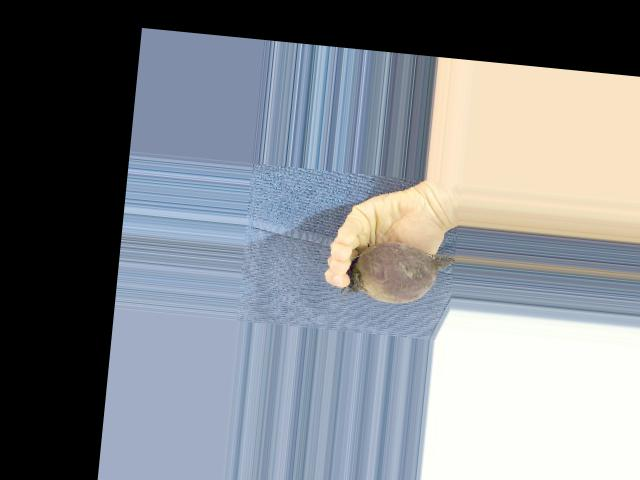beet: (338, 236, 455, 308)
